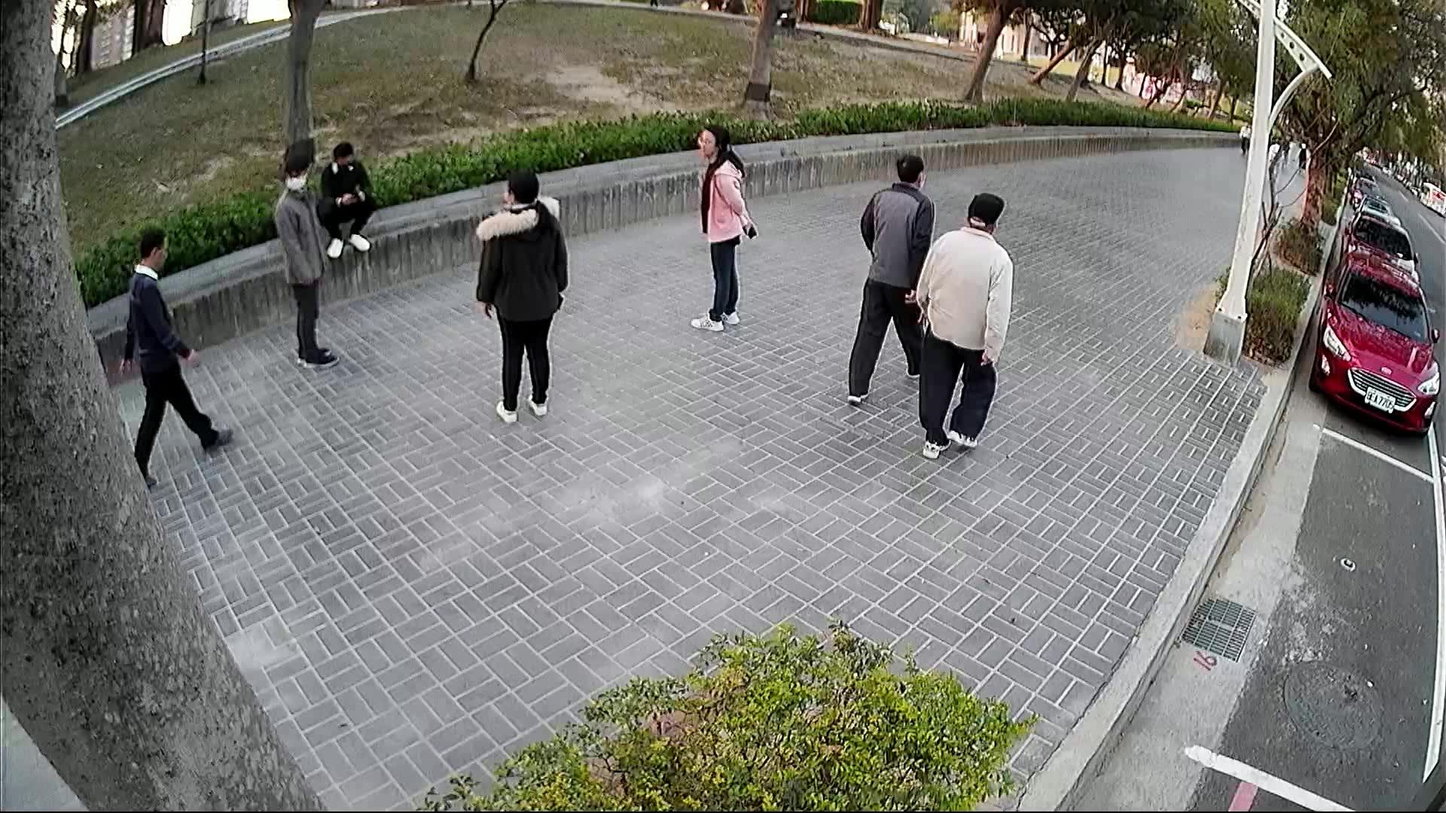person: (111, 221, 236, 486), (907, 181, 1021, 463), (837, 145, 939, 406), (470, 160, 570, 425), (682, 118, 760, 336), (270, 142, 341, 370), (313, 137, 382, 258)
